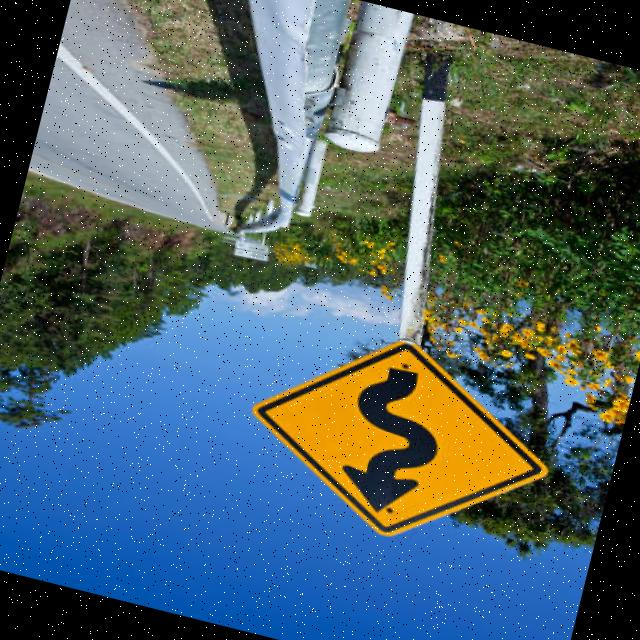left_sharp_curve: (222, 302, 576, 579)
